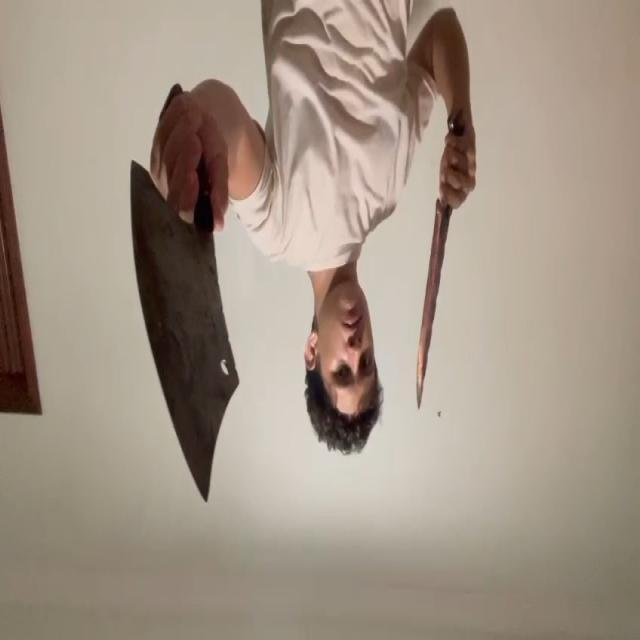knife: (131, 160, 241, 503), (418, 204, 452, 408)
